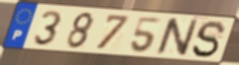3: (32, 10, 64, 47)
5: (129, 15, 162, 54)
7: (94, 14, 131, 52)
8: (65, 11, 96, 50)
N: (154, 17, 201, 57)
S: (190, 19, 228, 59)
